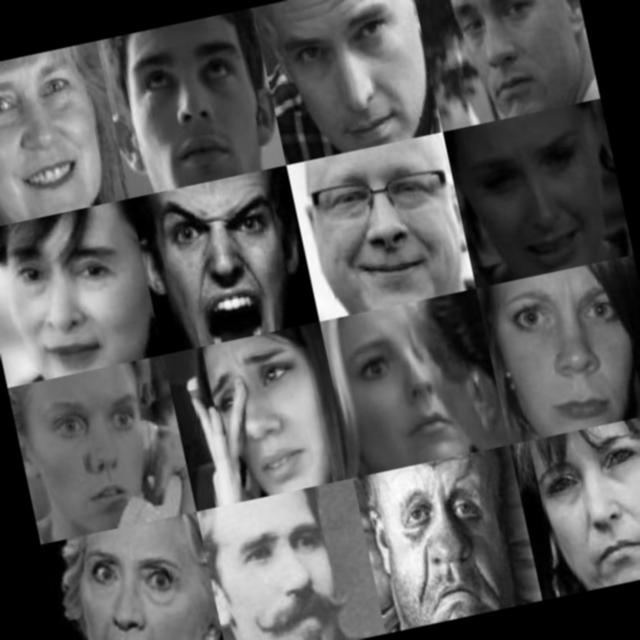angry: (146, 172, 304, 349), (66, 517, 211, 640)
fear: (336, 302, 478, 468), (30, 371, 170, 528)
happy: (297, 144, 469, 312), (0, 44, 107, 217), (224, 506, 357, 640)
neutral: (120, 20, 270, 188), (269, 0, 425, 158)
sad: (457, 109, 618, 281), (0, 207, 145, 386), (495, 260, 640, 439), (192, 331, 334, 499), (524, 418, 640, 596), (386, 464, 513, 626), (441, 0, 568, 121)
